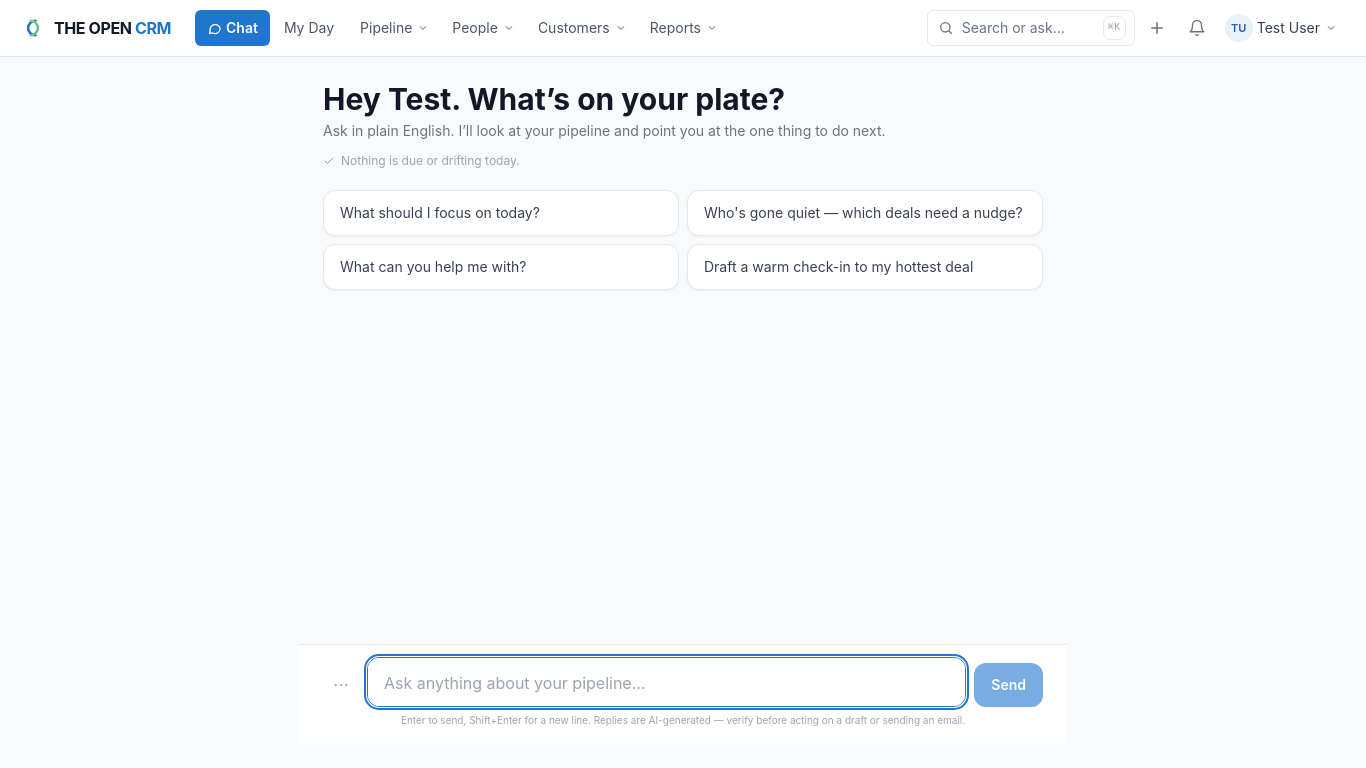
it: Chat streaming › does not fall back once the server has ruled (429 daily cap) — same copy as the blocking route
The image size is (1366, 768).
Type "hello" into the text box named "Message" at (667, 682), box [367,657,966,707]
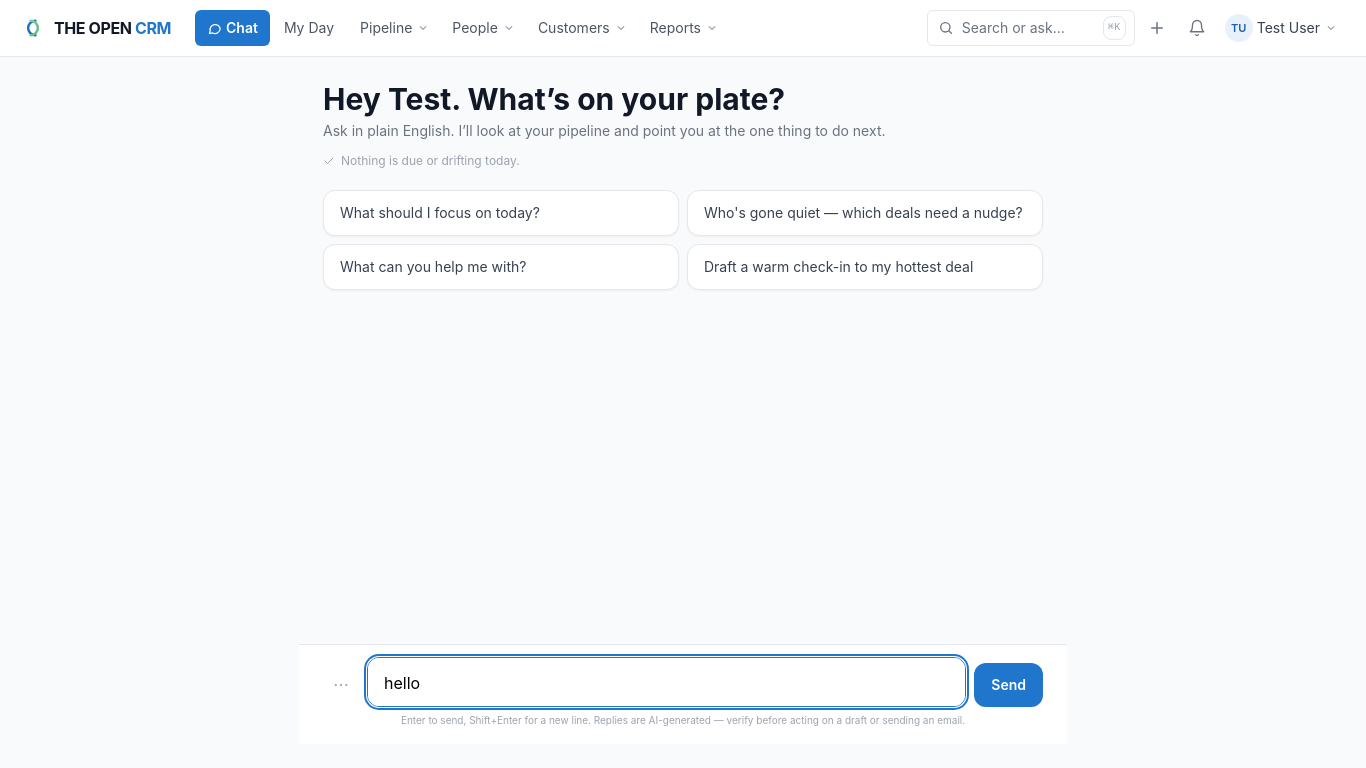
Press Enter in the text box named "Message", box [367,657,966,707]
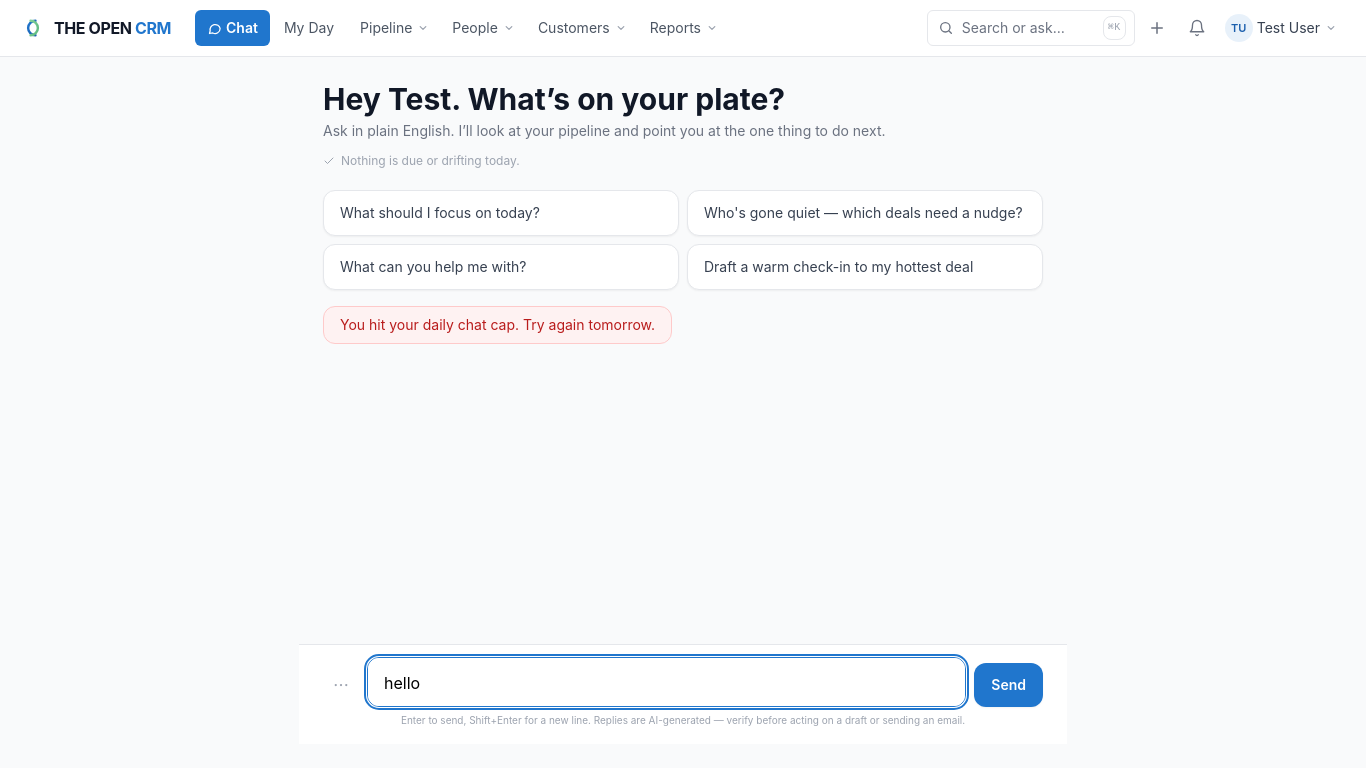
Now the text "You hit your daily chat cap. Try again tomorrow." is shown, box [323,306,672,344]
